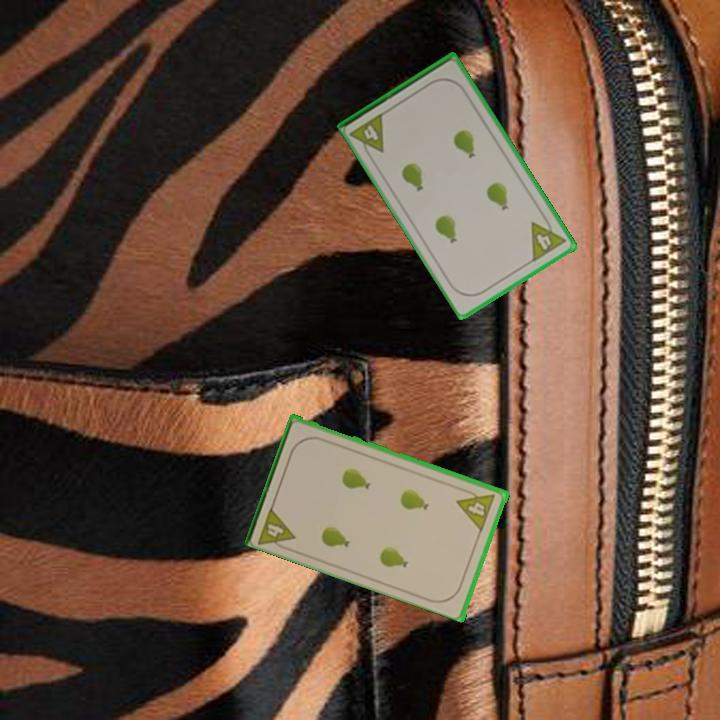4p: (254, 502, 299, 554), (527, 211, 569, 265), (454, 484, 498, 533), (347, 109, 387, 161)
